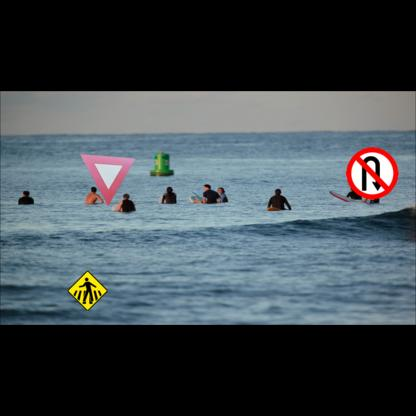A-32b: (67, 270, 108, 311)
R-2: (80, 154, 135, 206)
